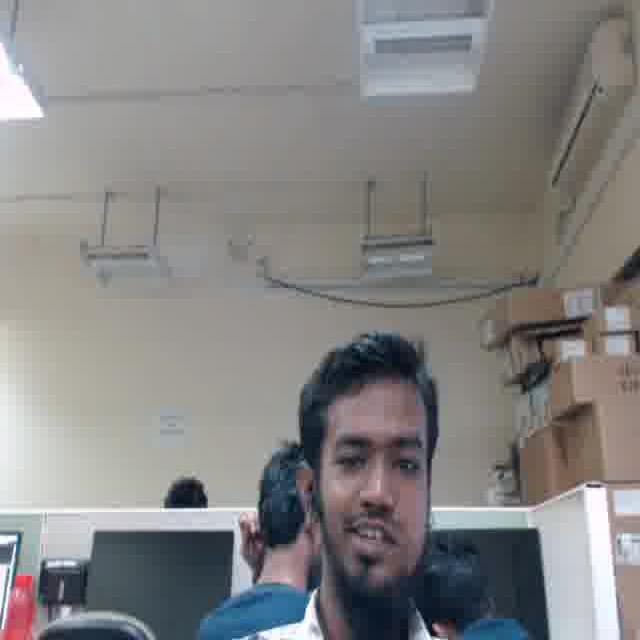Engaged: (314, 385, 434, 591)
